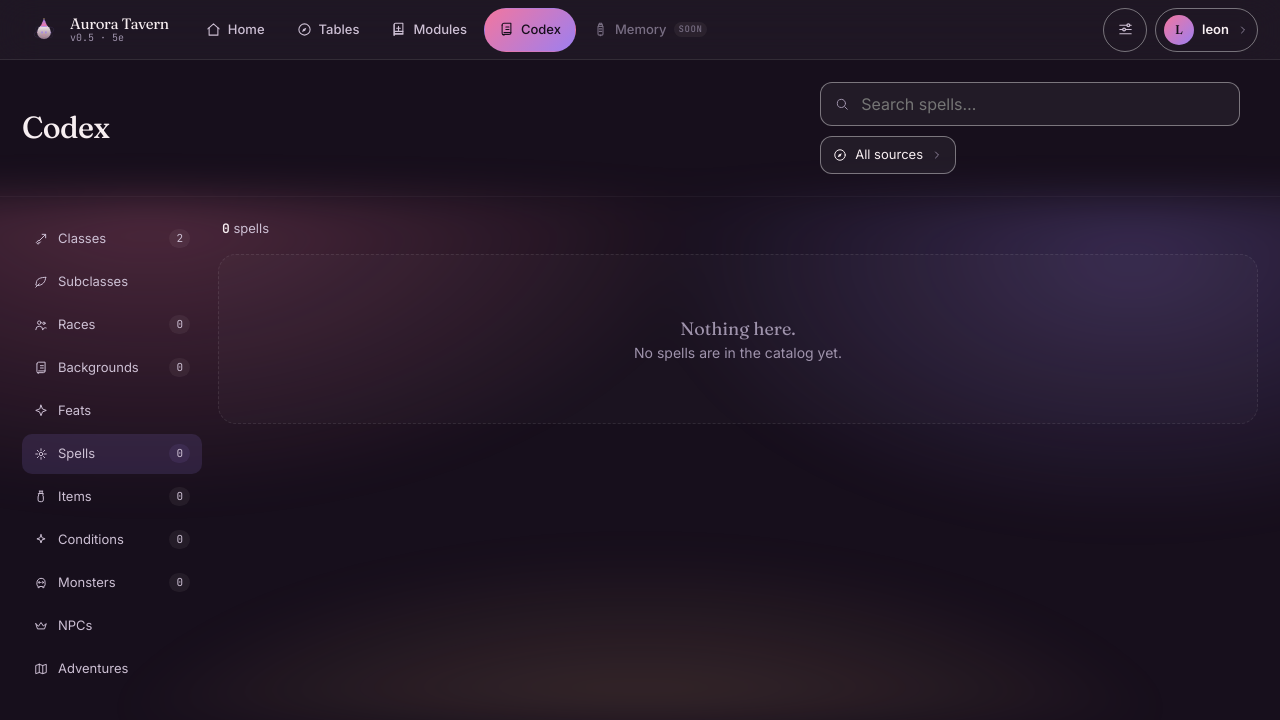
Test case: DDX21-3: Classes tab pluralizes correctly ("classes", not "classs") › the visible list-head count reads "2 classes", never "2 classs"
Click the tab "Classes 2" at (112, 238), box [22,218,202,258]
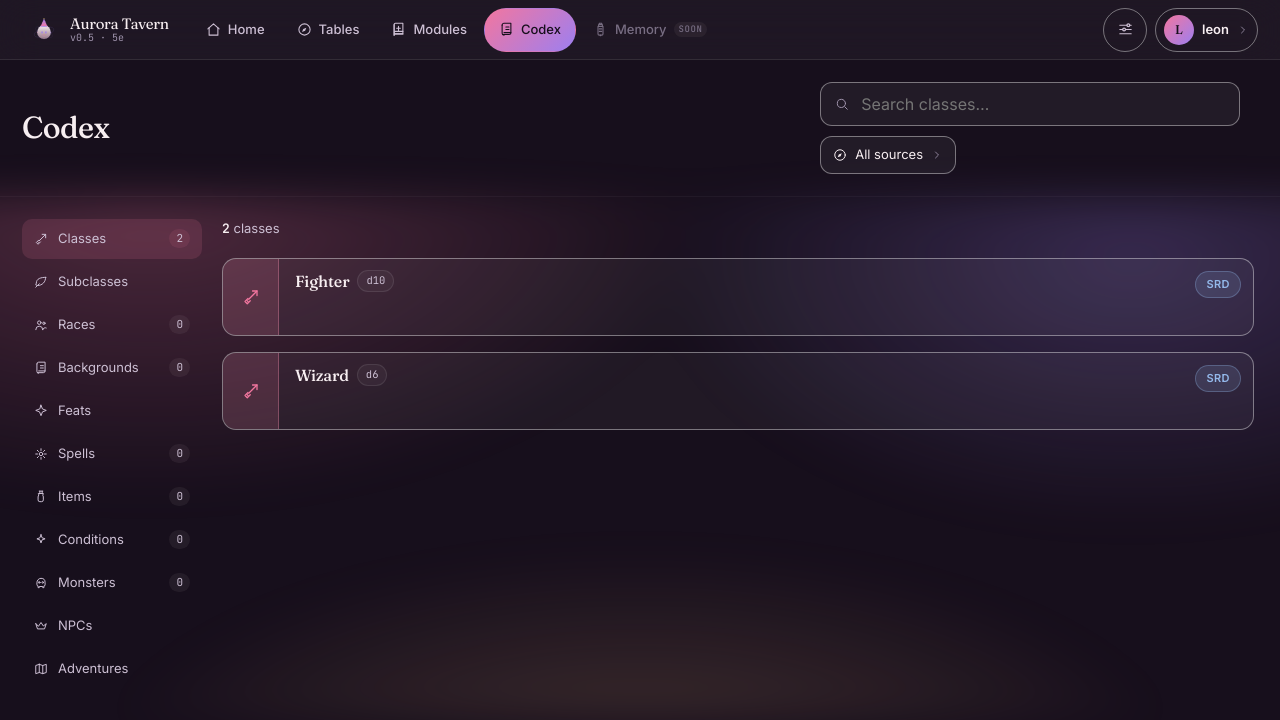
Expected: the option "Fighter d10 SRD" is shown, [222,258,1254,336]
Expected: the element with class "listHead" reads "2 classes", [222,220,280,236]
